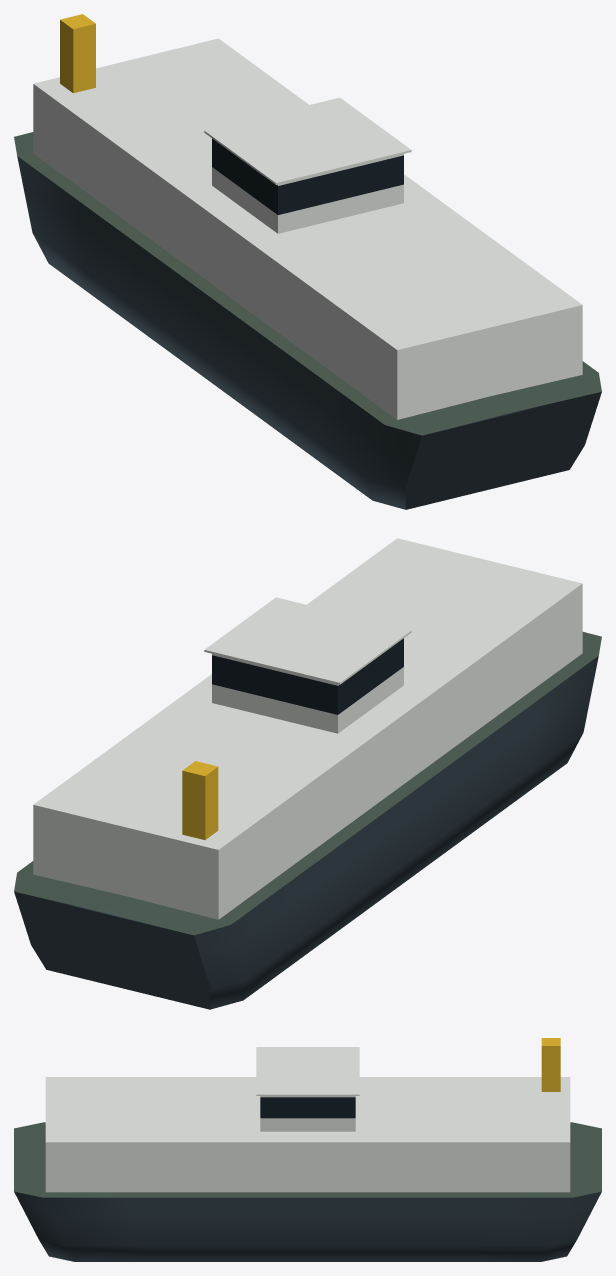
Rendered from feed_barge_LOD2.glb.
3 views of the same model, one above another, from view 1: azimuth 30°, elevation 25°; view 2: azimuth 150°, elevation 25°; view 3: azimuth 270°, elevation 25° (orthographic). The views are drawn at different scales.
Visible parts, largest first — view 1: Superstructure, Hull, Deck, Windows, Crane; view 2: Superstructure, Hull, Deck, Windows, Crane; view 3: Superstructure, Hull, Deck, Windows, Crane.
Part boxes in pixels (x1=…): Superstructure: x1=33, y1=38, x2=582, y2=419; Hull: x1=17, y1=156, x2=601, y2=509; Deck: x1=14, y1=132, x2=601, y2=435; Windows: x1=212, y1=138, x2=403, y2=214; Crane: x1=60, y1=14, x2=95, y2=93; Superstructure: x1=33, y1=538, x2=582, y2=919; Hull: x1=14, y1=656, x2=598, y2=1009; Deck: x1=14, y1=632, x2=601, y2=935; Windows: x1=212, y1=638, x2=403, y2=714; Crane: x1=182, y1=761, x2=218, y2=839; Superstructure: x1=45, y1=1047, x2=570, y2=1192; Hull: x1=14, y1=1191, x2=601, y2=1261; Deck: x1=14, y1=1122, x2=601, y2=1197; Windows: x1=260, y1=1097, x2=355, y2=1118; Crane: x1=541, y1=1038, x2=560, y2=1091.
Size of the model in its own units: 11.2 by 11.4 by 37.
